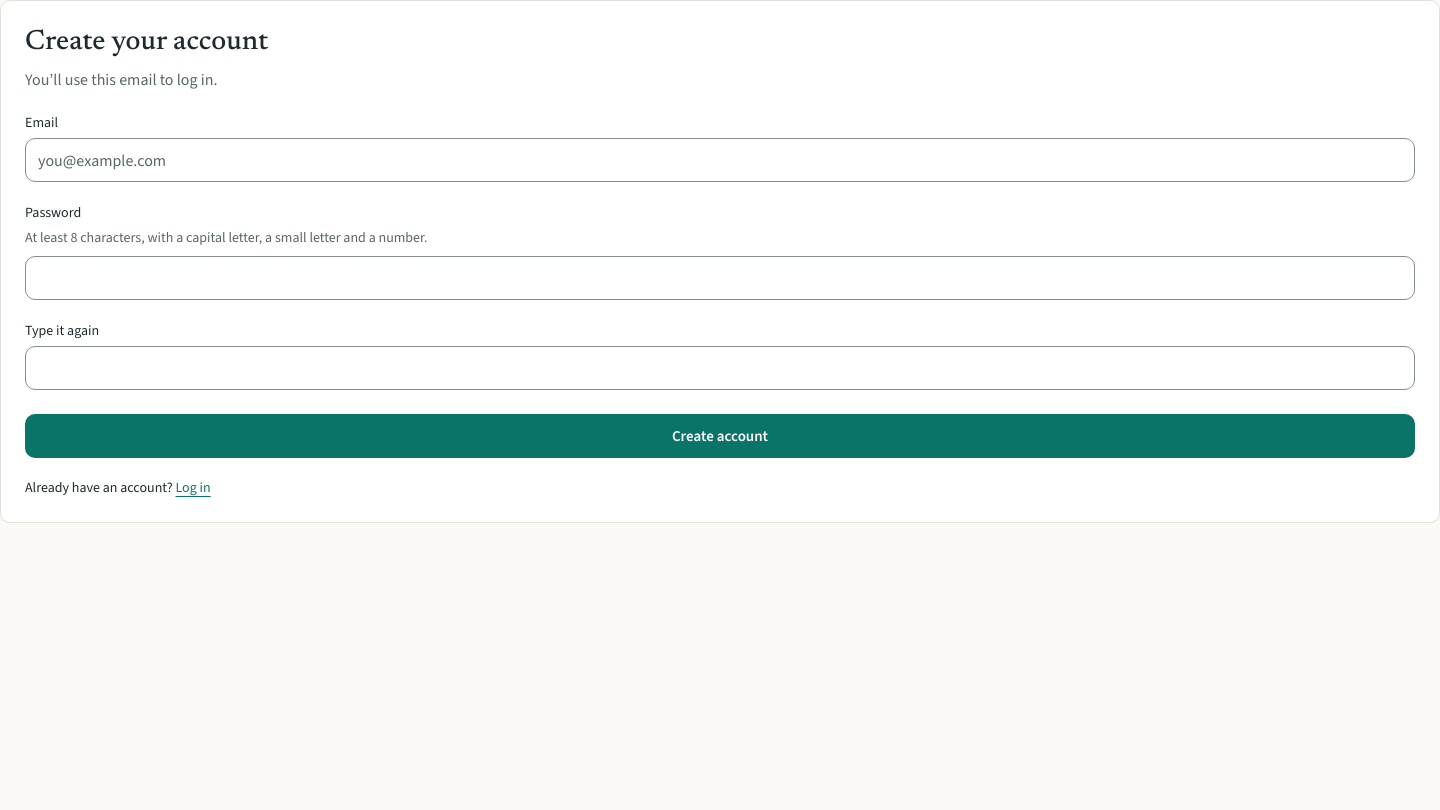
SignUpForm › mismatched passwords never reach Supabase
The image size is (1440, 810).
Type "ann@example.com" into the field labelled "Email".
click(720, 160); type("ann@example.com")  # box [25, 138, 1415, 182]
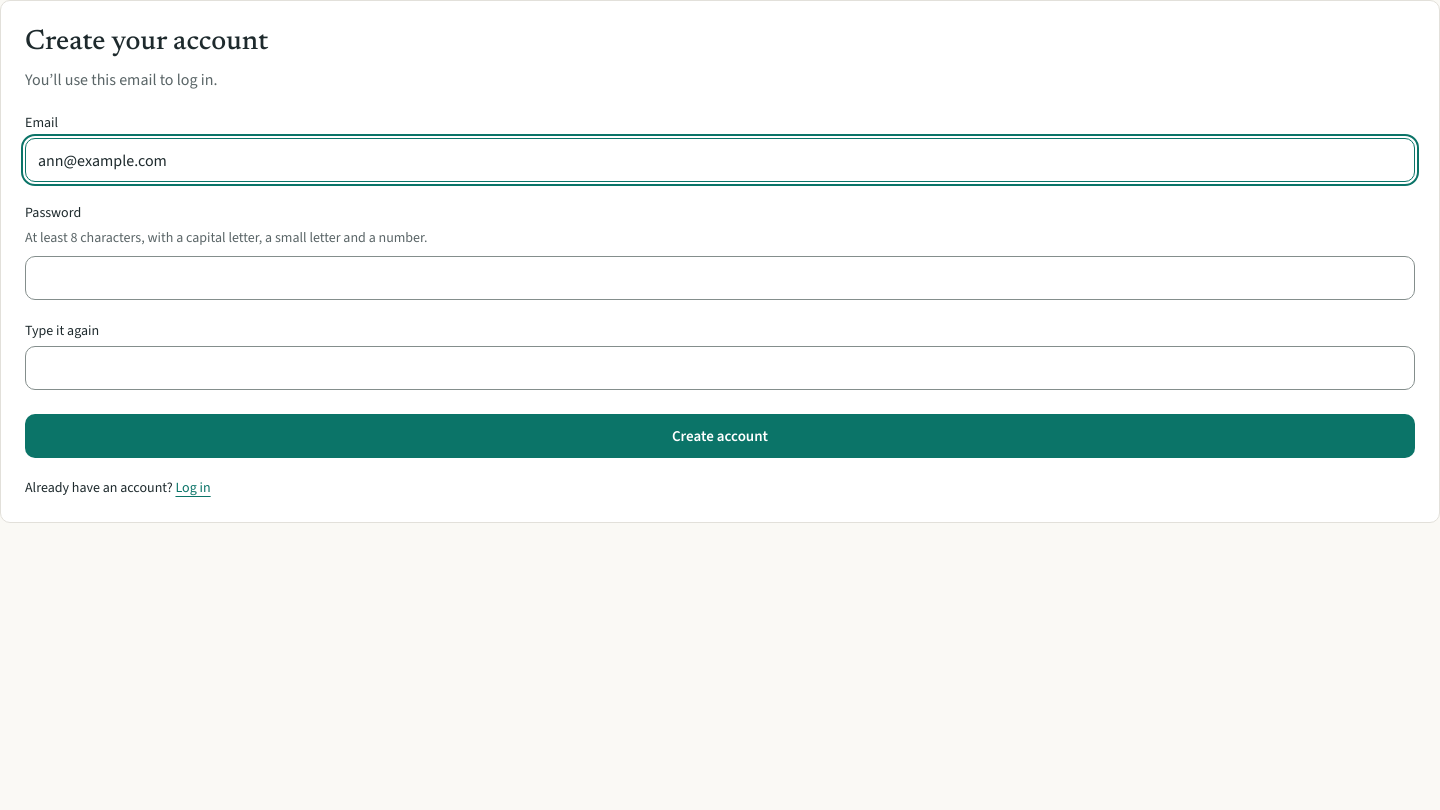
Type "Password123!" into the password field labelled "Password".
click(720, 278); type("Password123!")  # box [25, 256, 1415, 300]
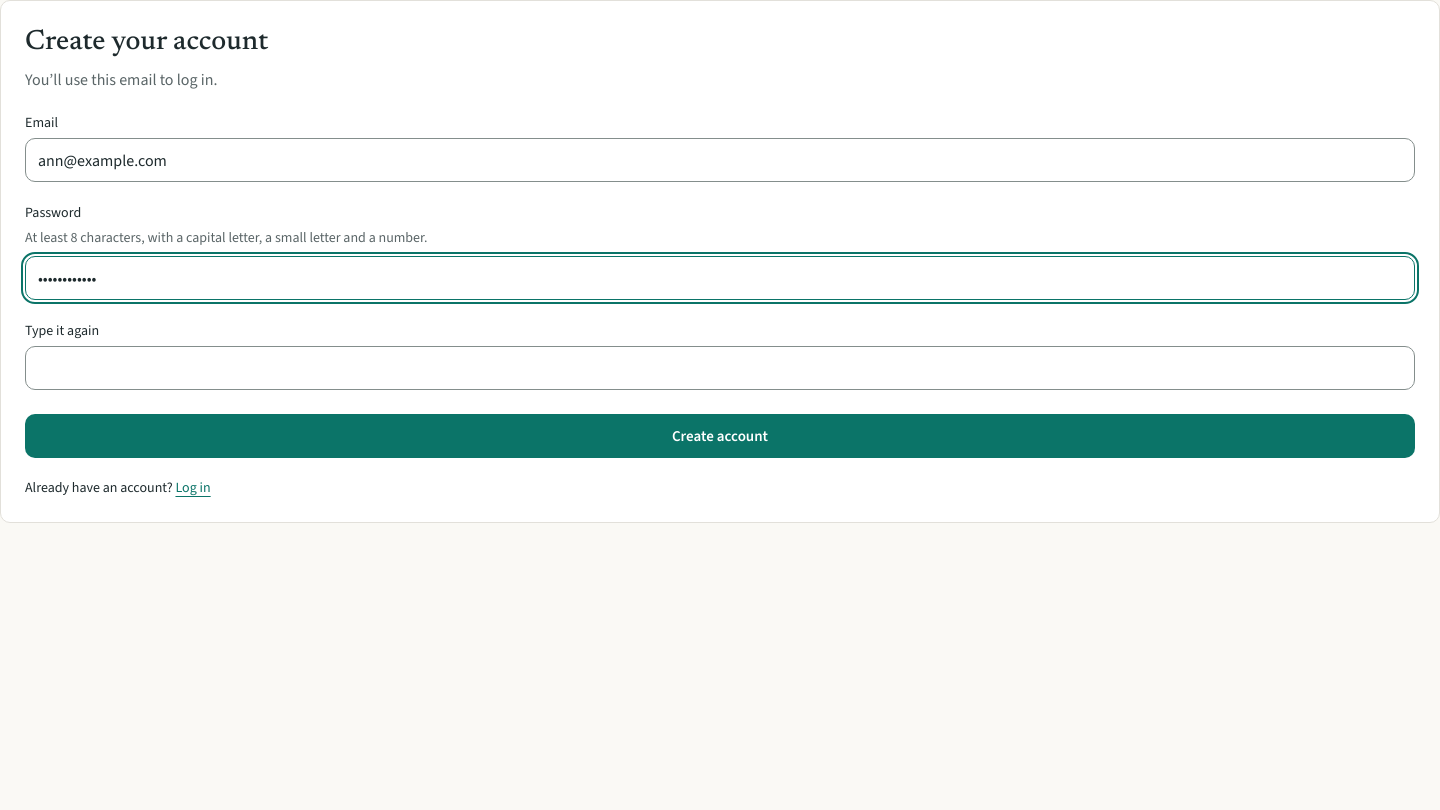
Type "Different1" into the password field labelled "Type it again".
click(720, 368); type("Different1")  # box [25, 346, 1415, 390]
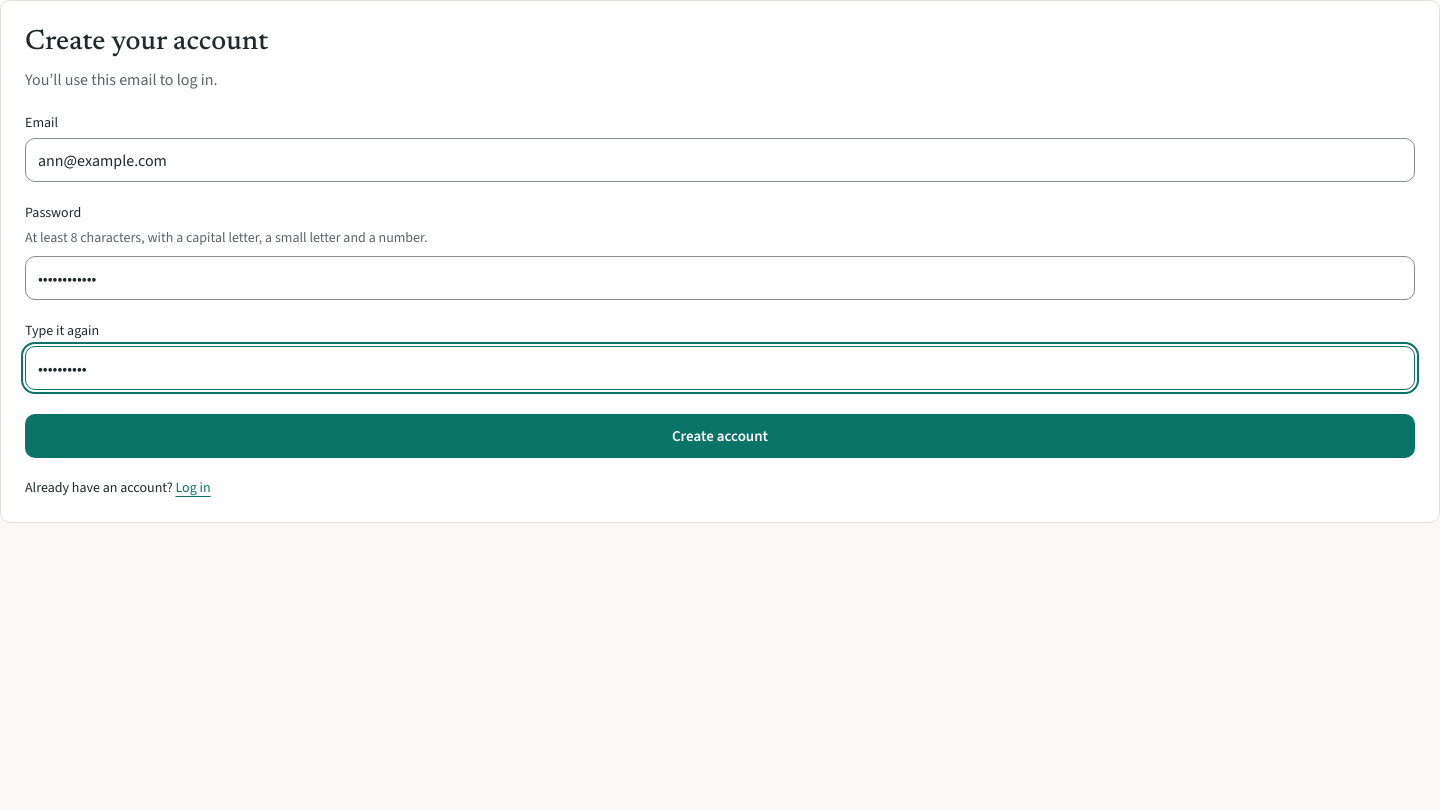
Click the button "Create account".
click(720, 436)  # box [25, 414, 1415, 458]
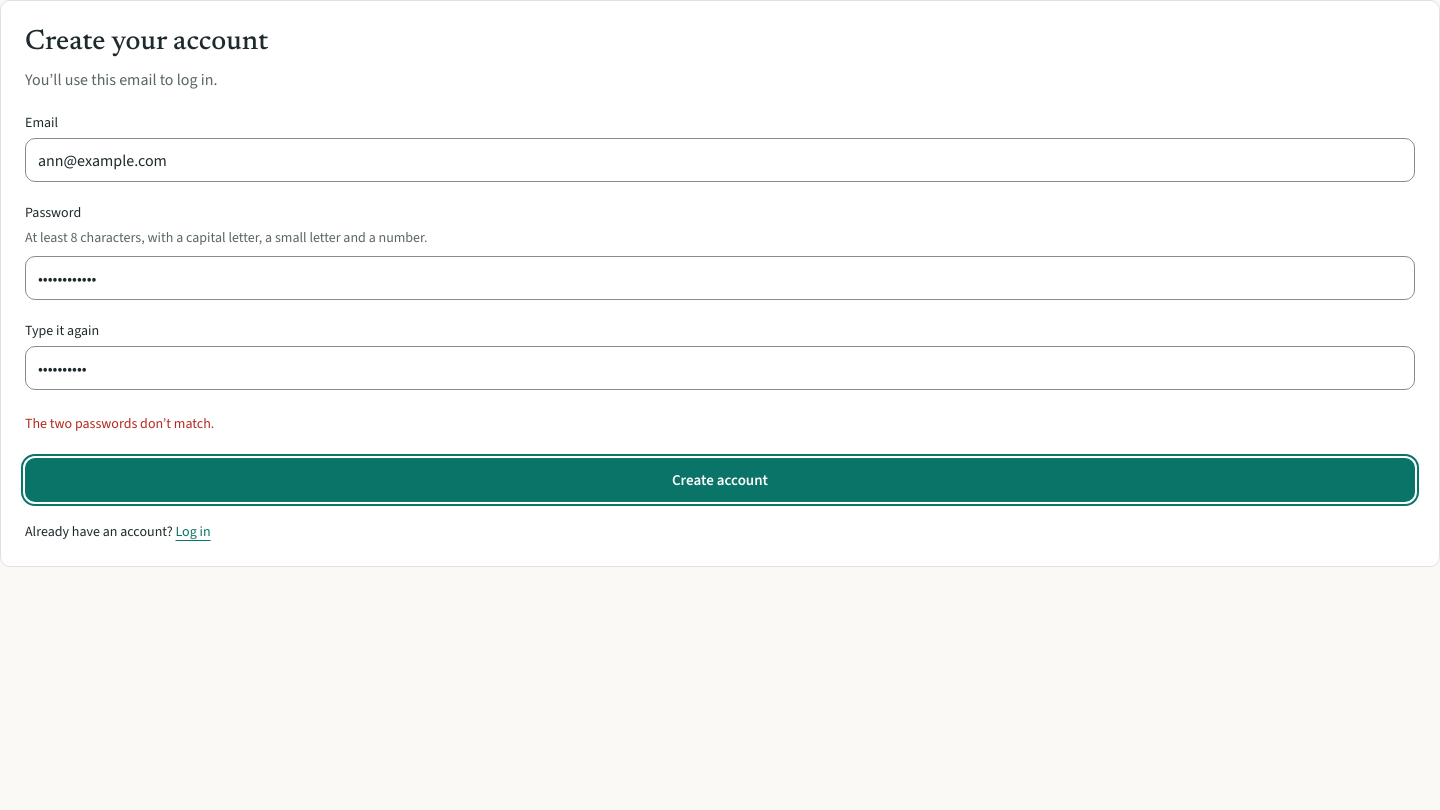
Check: the message reads "The two passwords don’t match.", box [25, 414, 214, 433]
